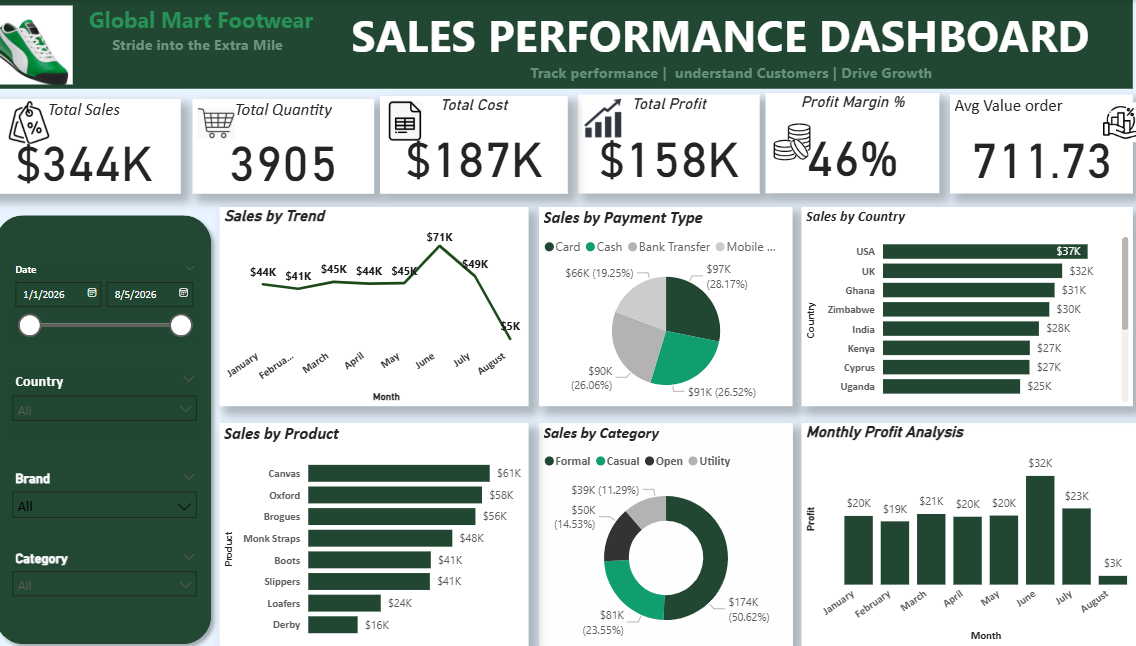

This screenshot's page, from the dashboard's own definition file:
{"tool":"powerbi","page":{"name":" Overview","canvas":[1280,720],"ordinal":0},"visuals":[{"type":"card","title":"Total Sales","fields":{"Values":["Measure Table.Total Revenue"]},"box":[0,109.3,213.7,104.4],"z":0},{"type":"card","title":"           Total Quantity","fields":{"Values":["Measure Table.Total Quantity"]},"box":[226.9,109.3,200.4,104.4],"z":1000},{"type":"card","title":"Total Profit ","fields":{"Values":["Measure Table.Total Profit"]},"box":[652.7,104.4,200.4,109.3],"z":2000},{"type":"card","title":"Total Cost","fields":{"Values":["Measure Table.Total Cost"]},"box":[434,106,207.1,107.7],"z":3000},{"type":"card","title":"Profit Margin %","fields":{"Values":["Measure Table.Profit Magin %"]},"box":[859.7,102.7,192.2,111],"z":4000},{"type":"card","title":"Avg Value order","fields":{"Values":["Measure Table.Avg order value"]},"box":[1063.5,104.4,202.1,109.3],"z":5000},{"type":"lineChart","title":" Sales by Trend","fields":{"Category":["Shoes sales.Date.Variation.Date Hierarchy.Month"],"Y":["Measure Table.Total Sales"]},"box":[256.8,228.6,341.2,220.3],"z":6000},{"type":"donutChart","title":"Sales by Category","fields":{"Category":["Shoes sales.Category"],"Y":["Measure Table.Total Revenue"]},"box":[609.6,467.1,279.9,246.8],"z":7000},{"type":"barChart","title":"Sales by Product","fields":{"Category":["Shoes sales.Product"],"Y":["Measure Table.Total Revenue"]},"box":[256.8,467.1,341.2,246.8],"z":8000},{"type":"columnChart","title":"Monthly Profit Analysis","fields":{"Category":["Shoes sales.Date.Variation.Date Hierarchy.Month"],"Y":["Measure Table.Total Profit"]},"box":[899.5,467.1,381,246.8],"z":9000},{"type":"pieChart","title":"Sales by Payment Type","fields":{"Category":["Shoes sales.Payment Type"],"Y":["Measure Table.Total Revenue"]},"box":[609.6,228.6,279.9,220.3],"z":10000},{"type":"barChart","title":"Sales by Country","fields":{"Category":["Shoes sales.Country"],"Y":["Measure Table.Total Revenue"]},"box":[899.5,228.6,366.1,220.3],"z":11000},{"type":"textbox","box":[0,0,1265.6,97.7],"z":12000},{"type":"shape","box":[0,228.6,256.8,492],"z":13000},{"type":"slicer","fields":{"Values":["Shoes sales.Date"]},"box":[18.2,284.9,223.6,102.7],"z":14000},{"type":"slicer","fields":{"Values":["Shoes sales.Country"]},"box":[18.2,405.8,223.6,84.5],"z":15000},{"type":"slicer","fields":{"Values":["Shoes sales.Brand"]},"box":[18.2,515.2,223.6,76.2],"z":16000},{"type":"slicer","fields":{"Values":["Shoes sales.Category"]},"box":[18.2,603,223.6,96.1],"z":17000},{"type":"image","box":[863,130.9,51.4,51.4],"z":18000},{"type":"image","box":[652.7,102.7,54.7,54.7],"z":19000},{"type":"image","box":[226.9,109.3,51.4,53],"z":20000},{"type":"image","box":[434,106,56.3,54.7],"z":21000},{"type":"image","box":[1222.5,107.7,58,54.7],"z":22000},{"type":"image","box":[18.2,106,56.3,58],"z":23000},{"type":"textbox","box":[107.7,0,286.6,79.5],"z":24000},{"type":"image","box":[0,0,99.4,99.4],"z":26000}]}

Visuals, with their boxes in screenshot pixels (x1, y1, x2, y2), scaled from the page's 1280x720 canvas onto the 1136x646 screenshot:
"Total Sales" card: 0, 98, 190, 192
"           Total Quantity" card: 201, 98, 379, 192
"Total Profit " card: 579, 94, 757, 192
"Total Cost" card: 385, 95, 569, 192
"Profit Margin %" card: 763, 92, 934, 192
"Avg Value order" card: 944, 94, 1123, 192
" Sales by Trend" lineChart: 228, 205, 531, 403
"Sales by Category" donutChart: 541, 419, 789, 641
"Sales by Product" barChart: 228, 419, 531, 641
"Monthly Profit Analysis" columnChart: 798, 419, 1135, 641
"Sales by Payment Type" pieChart: 541, 205, 789, 403
"Sales by Country" barChart: 798, 205, 1123, 403
textbox: 0, 0, 1123, 88
shape: 0, 205, 228, 645
slicer - Shoes sales.Date: 16, 256, 215, 348
slicer - Shoes sales.Country: 16, 364, 215, 440
slicer - Shoes sales.Brand: 16, 462, 215, 531
slicer - Shoes sales.Category: 16, 541, 215, 627
image: 766, 117, 812, 164
image: 579, 92, 628, 141
image: 201, 98, 247, 146
image: 385, 95, 435, 144
image: 1085, 97, 1135, 146
image: 16, 95, 66, 147
textbox: 96, 0, 350, 71
image: 0, 0, 88, 89
